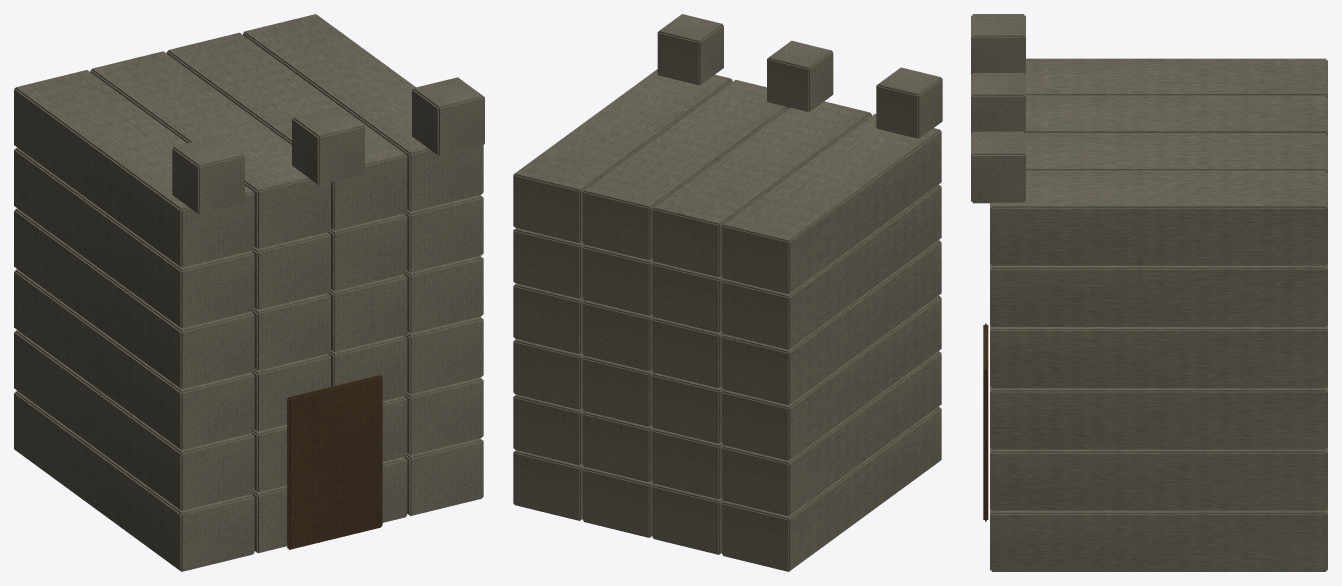
Rendered from watchtower-v1.glb.
3 views of the same model, side by side, from view 1: azimuth 30°, elevation 25°; view 2: azimuth 150°, elevation 25°; view 3: azimuth 270°, elevation 25° (orthographic). The views are drawn at different scales.
Visible parts, largest first — view 1: Tower block 5 0, Tower block 5 1, Tower block 0 0, Tower block 3 0, Tower block 4 0, Tower block 1 0, Tower block 2 0, Tower door, Tower block 5 3, Tower block 5 2, Battlement 1, Battlement 0 (+16 smaller); view 2: Tower block 5 0, Tower block 5 1, Tower block 5 2, Tower block 5 3, Tower block 1 0, Tower block 3 0, Tower block 2 0, Tower block 4 0, Tower block 0 0, Tower block 4 2, Tower block 2 2, Tower block 1 2 (+15 smaller); view 3: Tower block 5 3, Tower block 2 3, Tower block 0 3, Tower block 1 3, Tower block 3 3, Tower block 4 3, Tower block 5 0, Tower block 5 2, Tower block 5 1, Battlement 2, Battlement 0, Battlement 1 (+1 smaller).
Part boxes in pixels (x1,y1,x2,y2): Tower block 5 0: (14,70,254,267); Tower block 5 1: (90,51,330,248); Tower block 0 0: (14,391,254,571); Tower block 3 0: (14,208,254,389); Tower block 4 0: (14,147,254,328); Tower block 1 0: (14,330,254,510); Tower block 2 0: (14,269,254,450); Tower door: (287,375,382,549); Tower block 5 3: (243,14,483,211); Tower block 5 2: (166,32,407,230); Battlement 1: (292,106,364,185); Battlement 0: (172,136,244,214); Tower block 5 0: (722,113,941,294); Tower block 5 1: (652,101,871,277); Tower block 5 2: (582,80,789,260); Tower block 5 3: (513,69,732,243); Tower block 1 0: (722,351,941,516); Tower block 3 0: (722,240,941,405); Tower block 2 0: (722,295,941,460); Tower block 4 0: (722,184,941,349); Tower block 0 0: (722,407,941,571); Tower block 4 2: (582,245,654,315); Tower block 2 2: (582,356,654,426); Tower block 1 2: (582,411,655,482); Tower block 5 3: (990,171,1327,265); Tower block 2 3: (990,386,1327,449); Tower block 0 3: (990,509,1327,571); Tower block 1 3: (990,448,1327,510); Tower block 3 3: (990,325,1327,388); Tower block 4 3: (990,264,1327,326); Tower block 5 0: (1026,58,1327,97); Tower block 5 2: (1026,133,1327,172); Tower block 5 1: (1026,96,1327,135); Battlement 2: (971,131,1025,203); Battlement 0: (971,14,1025,74); Battlement 1: (971,73,1025,133).
Size of what is drawn, in the model's own units: 4.18 by 5.42 by 4.22.
28 materials, 28 textured.
